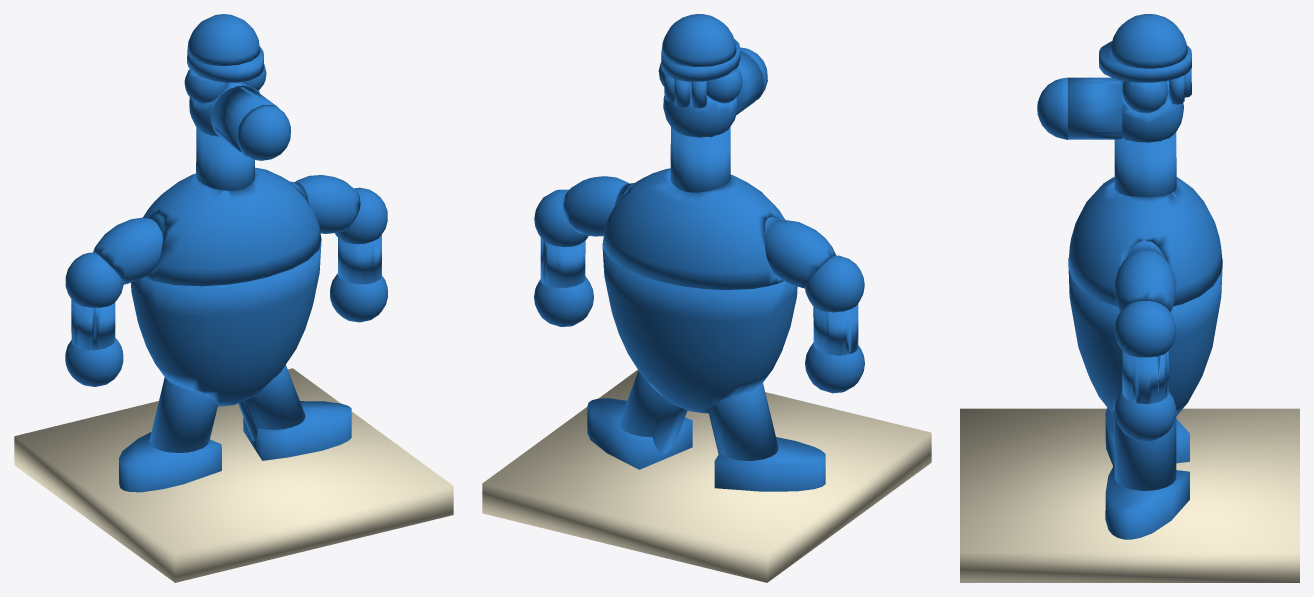
Rendered from crew_marine_b.glb.
3 views of the same model, side by side, from view 1: azimuth 30°, elevation 25°; view 2: azimuth 150°, elevation 25°; view 3: azimuth 270°, elevation 25° (orthographic). The views are drawn at different scales.
Parts seen in each view (by area): view 1: figura, basetta; view 2: figura, basetta; view 3: figura, basetta.
Part boxes in pixels (<box>): figura: <box>65,14,387,492</box>; basetta: <box>14,368,453,582</box>; figura: <box>534,14,864,491</box>; basetta: <box>482,370,931,582</box>; figura: <box>1037,14,1222,539</box>; basetta: <box>960,408,1299,582</box>.
Size of the model in its own units: 0.0226 by 0.032 by 0.02.
